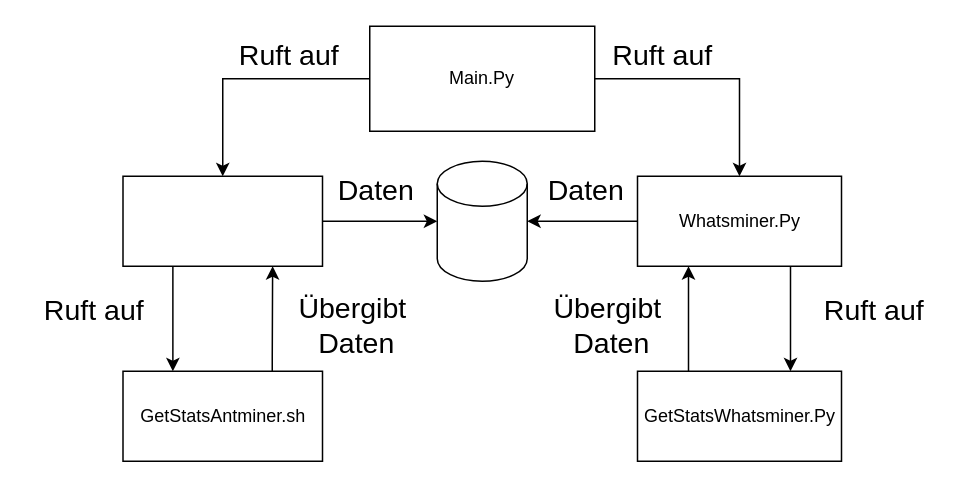
Some shapes in this 966 by 488 pixel diagram are drawn without their labels. The shapes that lost their labels are listed below. From the top down, each one's centre as x and y in pixels, then its label:
At (x=222, y=220): "Antminer.Py".
At (x=481, y=220): "Influx".
